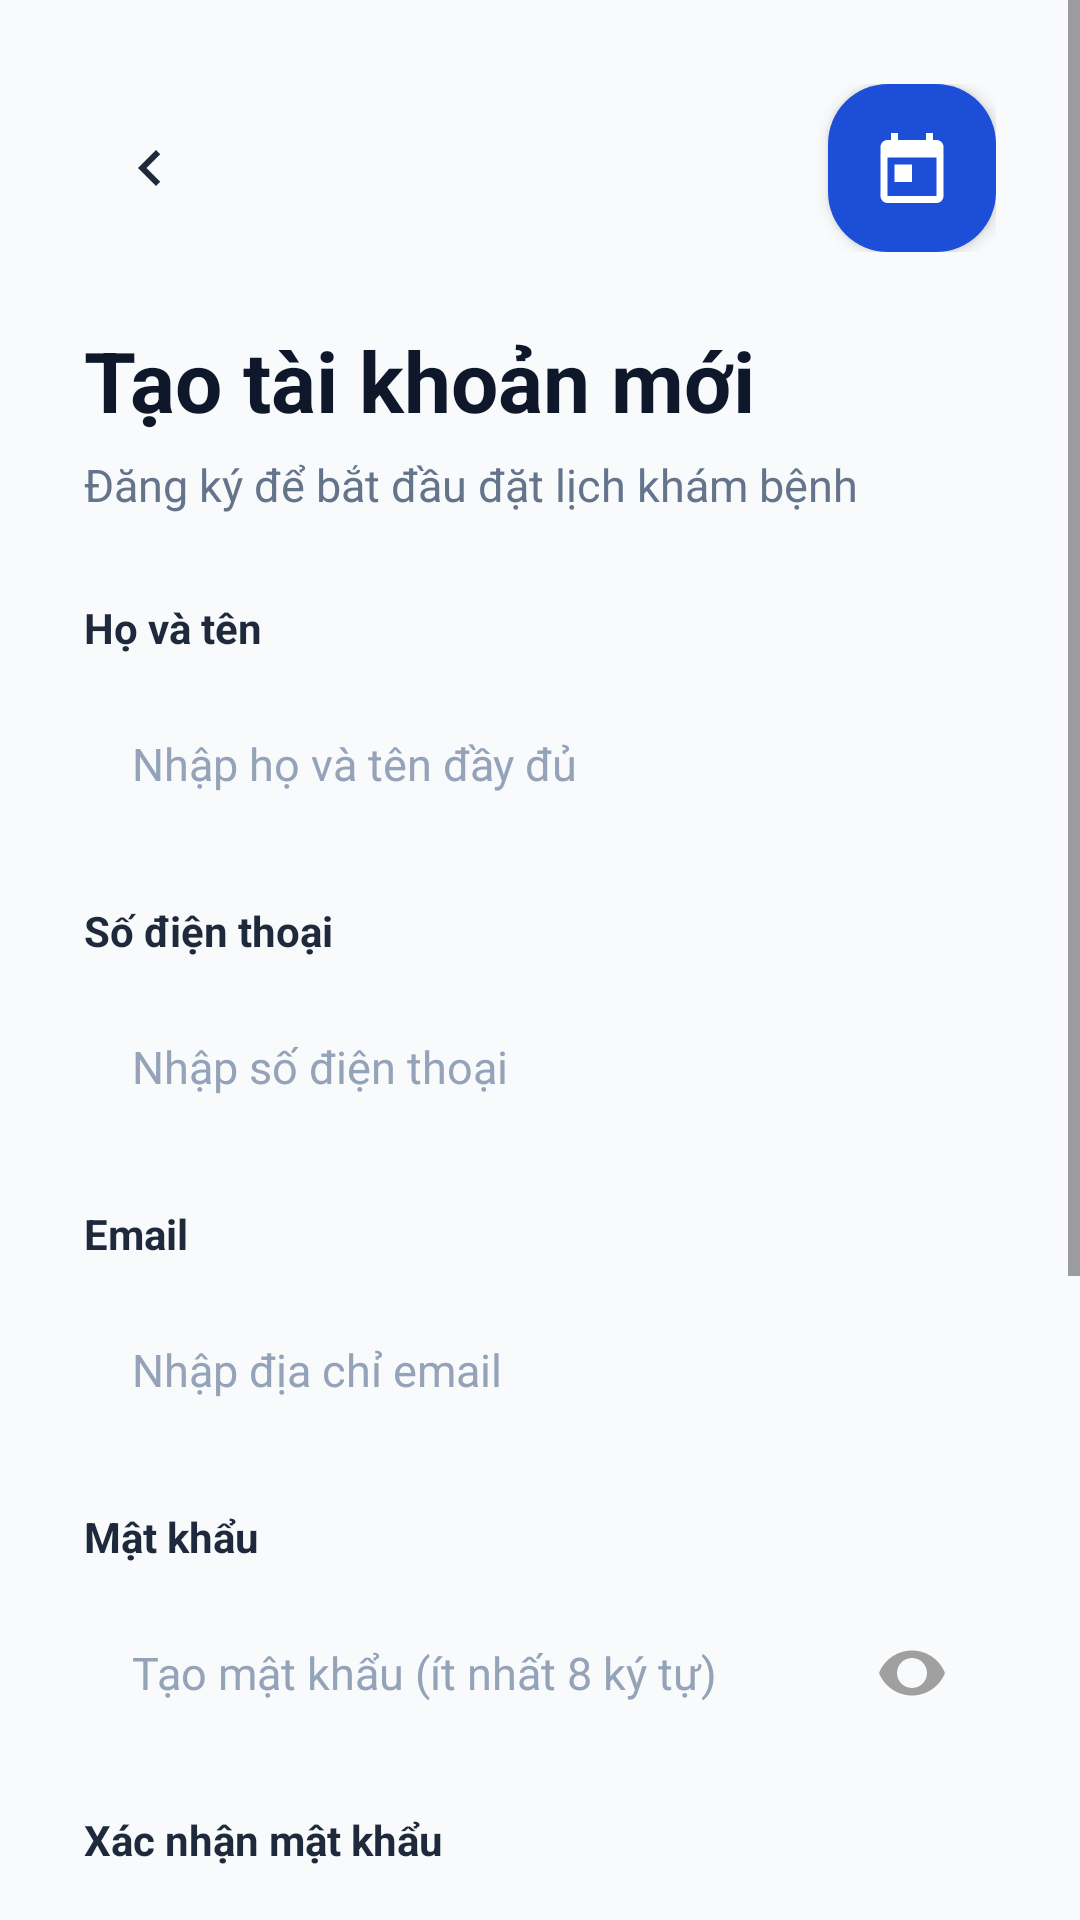

Icon click points for this 1080 × 1920 phone screenshot, format [x,y]:
arrow left: [149,168]
calendar: [912,168]
eye: [912,1673]
